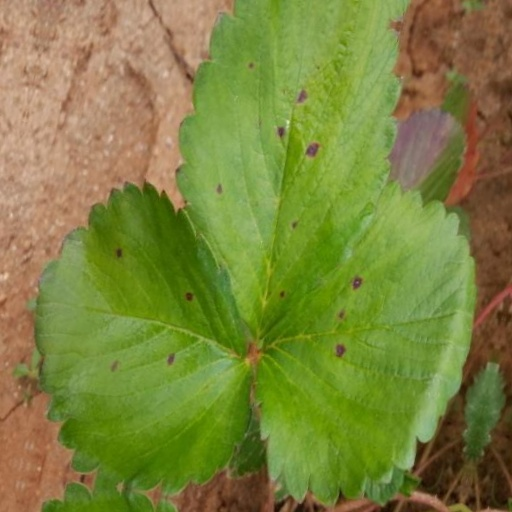Leaf Spot: (224, 204, 464, 511), (144, 0, 359, 342), (25, 148, 233, 491)
